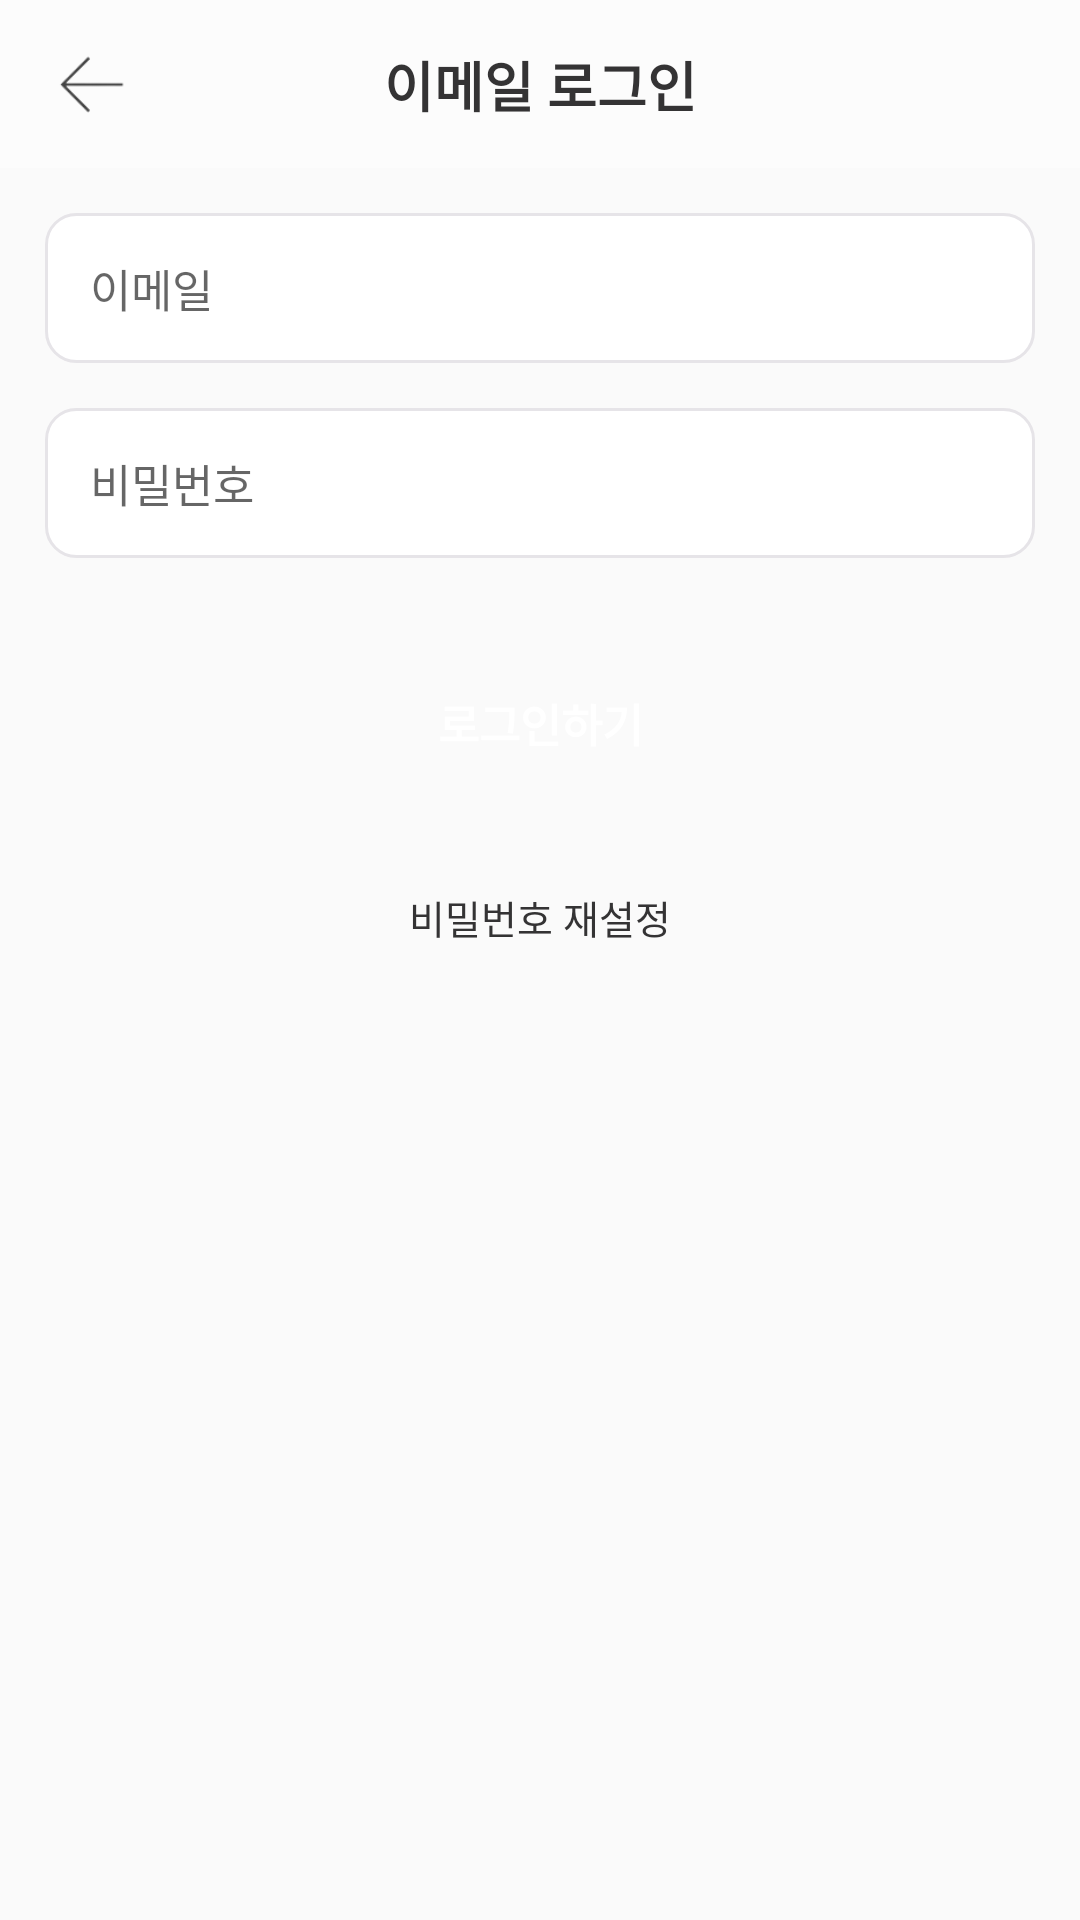

Screen size 1080px×1920px. Icon name, then its center in pixels as (x=x, y=y):
back arrow: (x=92, y=84)
